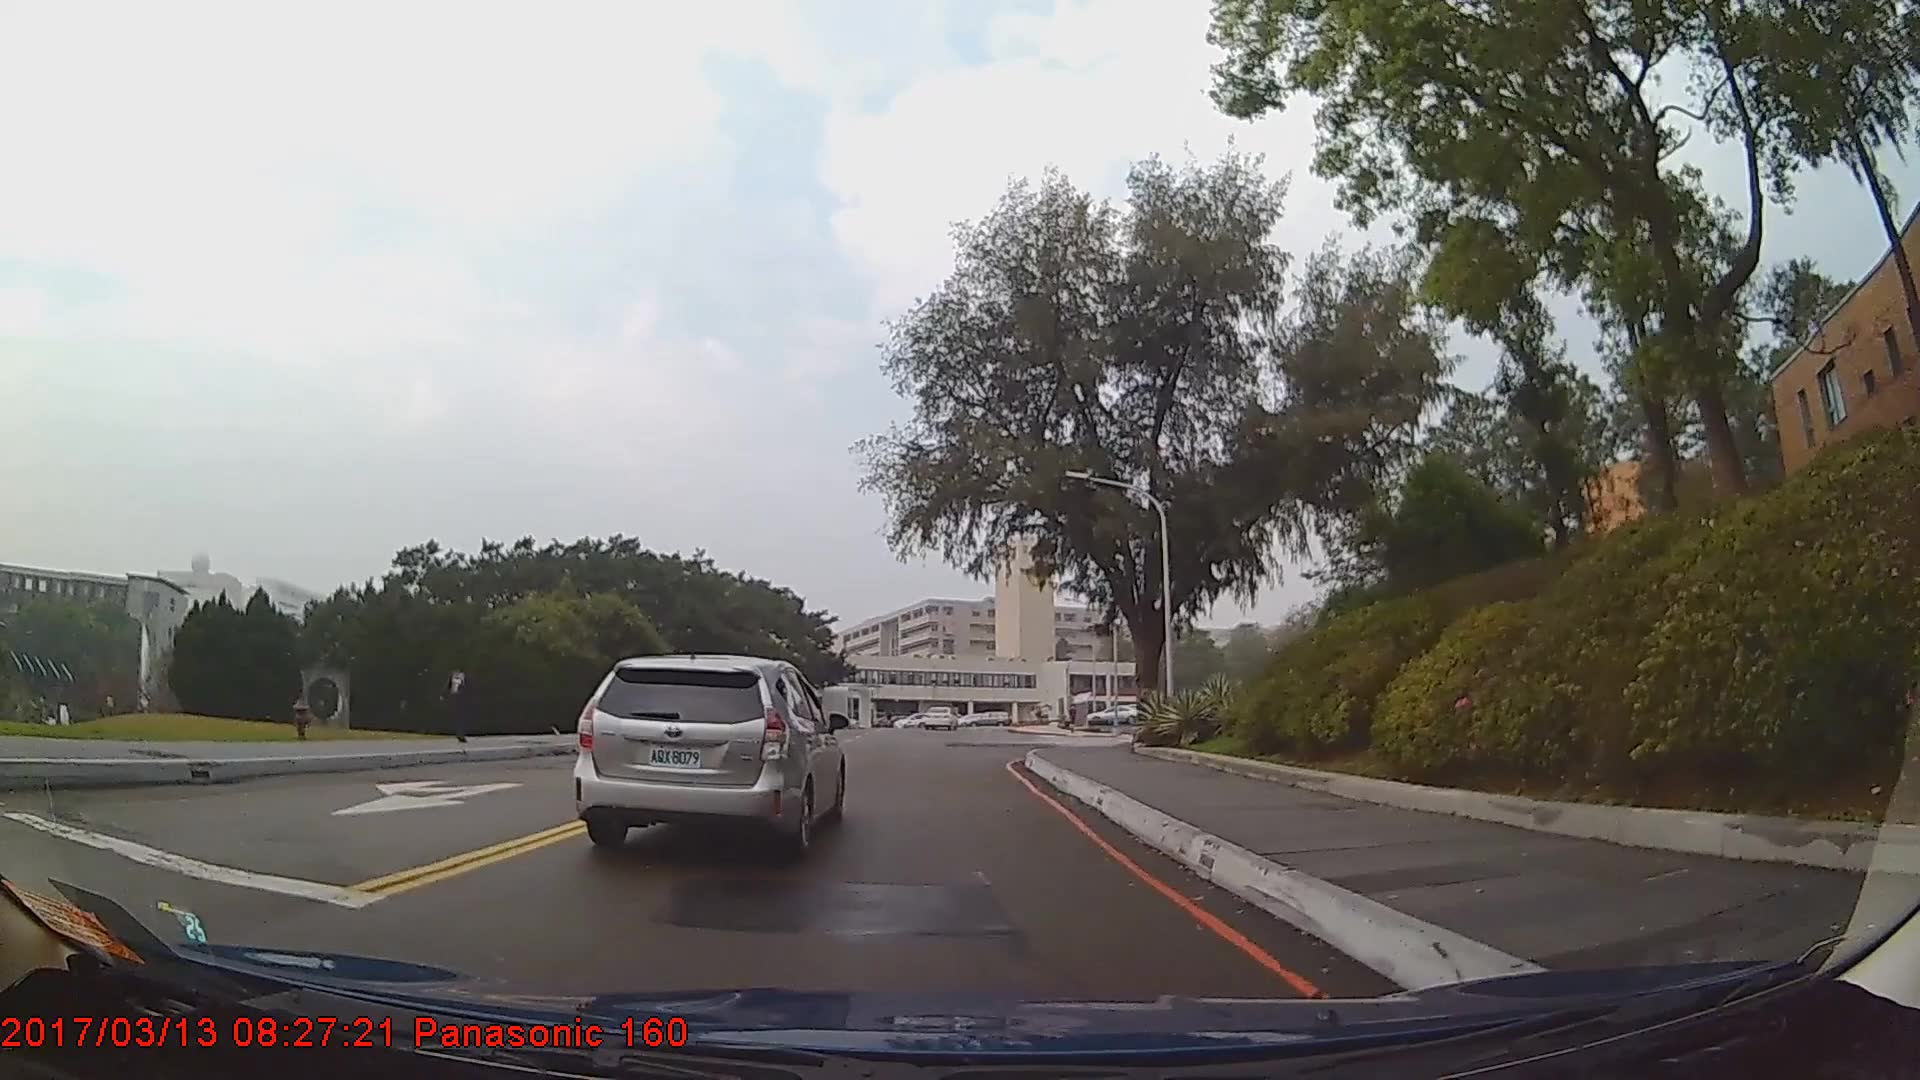pedestrian: (438, 651, 484, 754)
vehicle: (569, 651, 846, 860), (921, 704, 957, 731)
